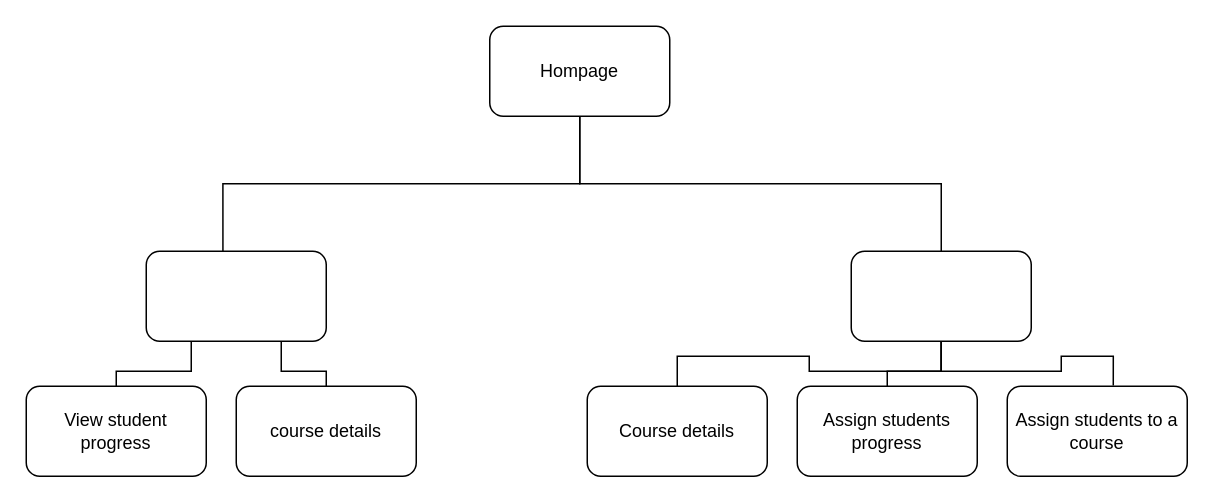
The diagram is 1214 pixels wide and 503 high, and some of its shapes have lost their labels. Here are the shapes that lost their labels. From the top down, the centre of each, then its label:
pixel 235 295: Students
pixel 940 295: tutors
